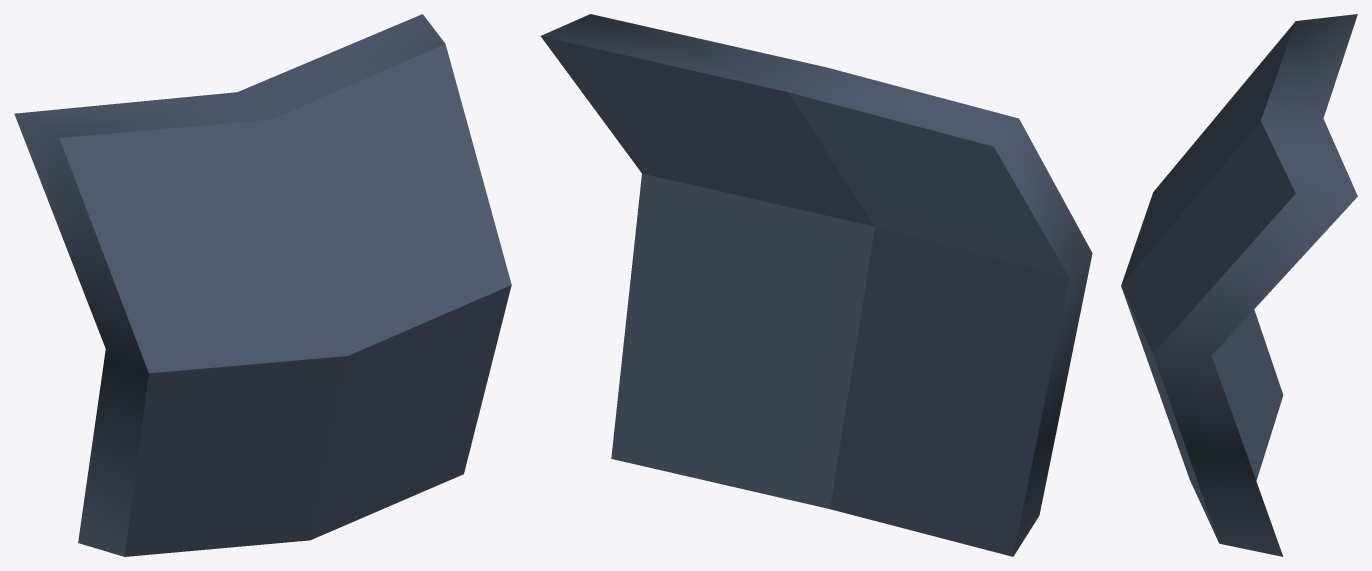
Rendered from acs17_part1_Armor2.fbx.
3 views of the same model, side by side, from view 1: azimuth 30°, elevation 25°; view 2: azimuth 150°, elevation 25°; view 3: azimuth 270°, elevation 25° (orthographic). The views are drawn at different scales.
Visible parts, largest first — view 1: Armor2; view 2: Armor2; view 3: Armor2.
Boxes of the visible parts, x1,y1,x2,y2 form: Armor2: [14, 14, 511, 556]; Armor2: [540, 14, 1092, 556]; Armor2: [1121, 14, 1357, 556].
Bounding box in the file's own units: 57.49 × 56.2 × 31.56.
